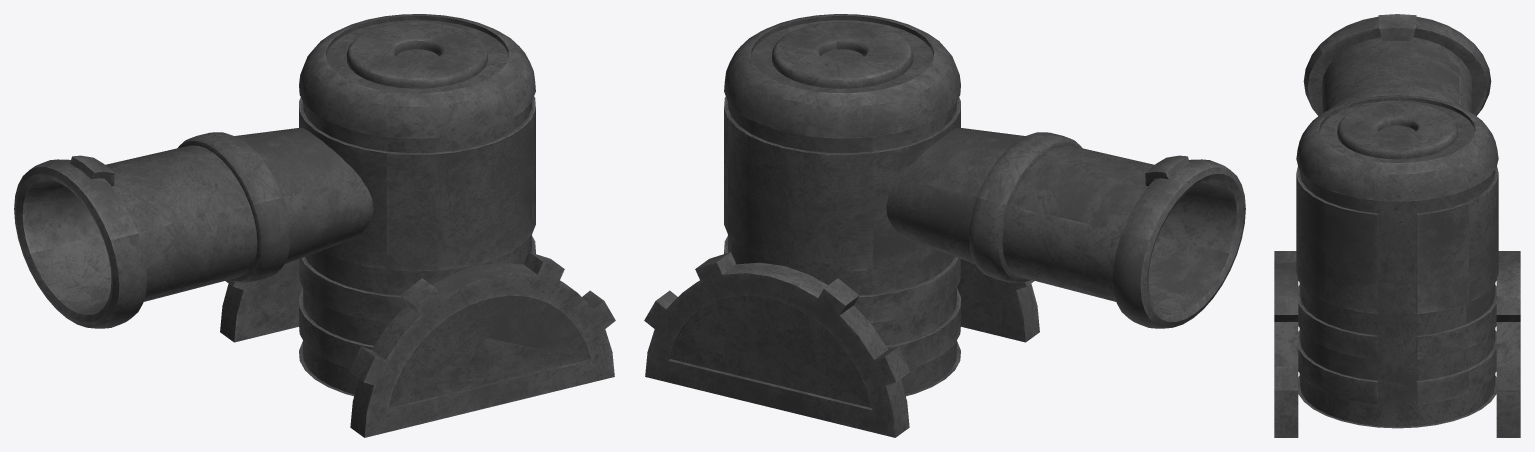
Rendered from cannon.fbx.
The picture shows the model from 3 angles, left to right: view 1: azimuth 30°, elevation 25°; view 2: azimuth 150°, elevation 25°; view 3: azimuth 270°, elevation 25°; orthographic projection. The views are drawn at different scales.
Visible parts, largest first — view 1: cannon__1_; view 2: cannon__1_; view 3: cannon__1_.
Part boxes in pixels (x1,y1,x2,y2): cannon__1_: [14, 14, 615, 437]; cannon__1_: [644, 14, 1245, 437]; cannon__1_: [1274, 14, 1520, 437].
Size of the model in its own units: 3.83 by 2.32 by 2.
Materials: 1 (1 with a texture image).
